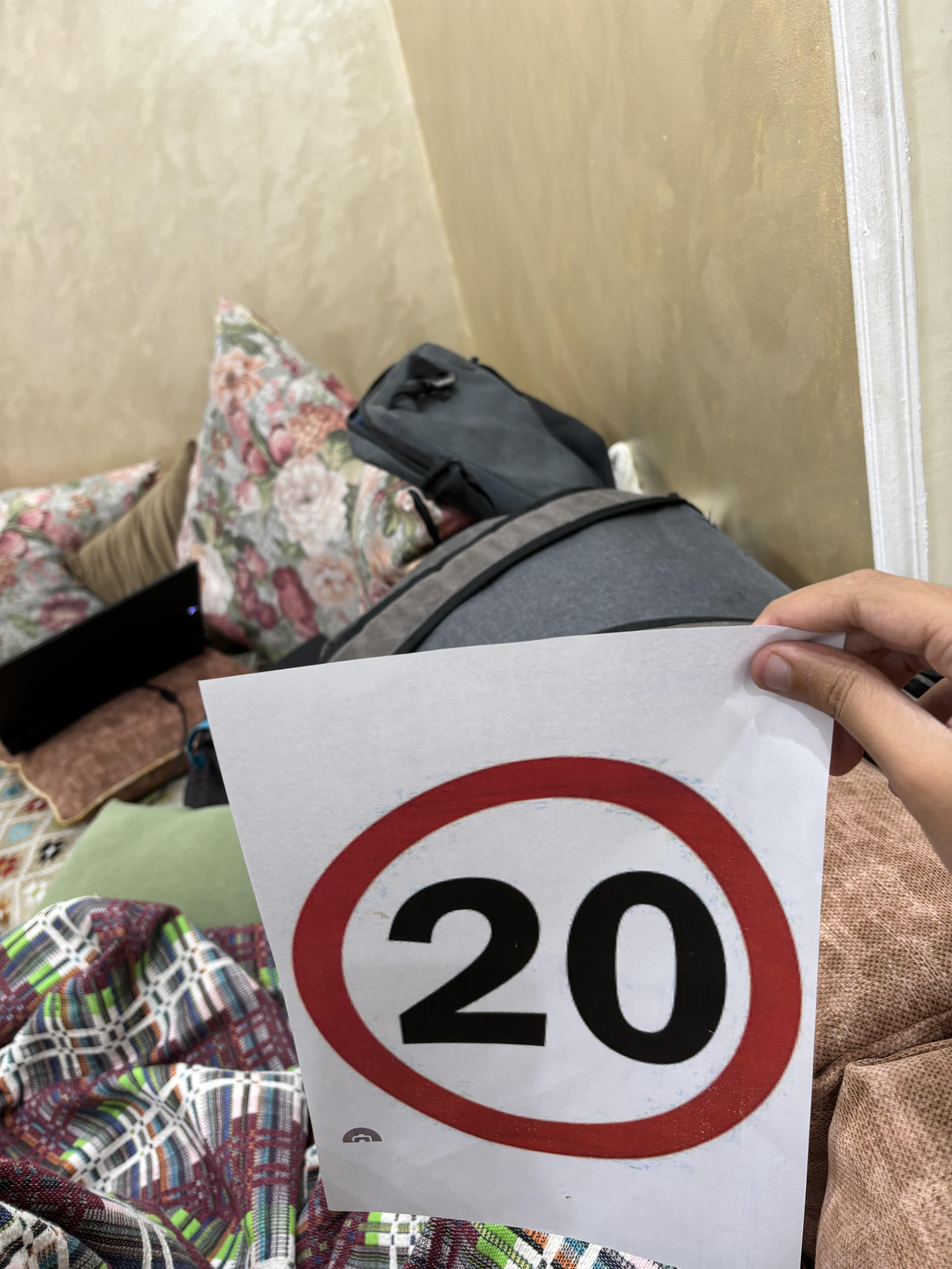20-Speed: (296, 749, 811, 1157)
